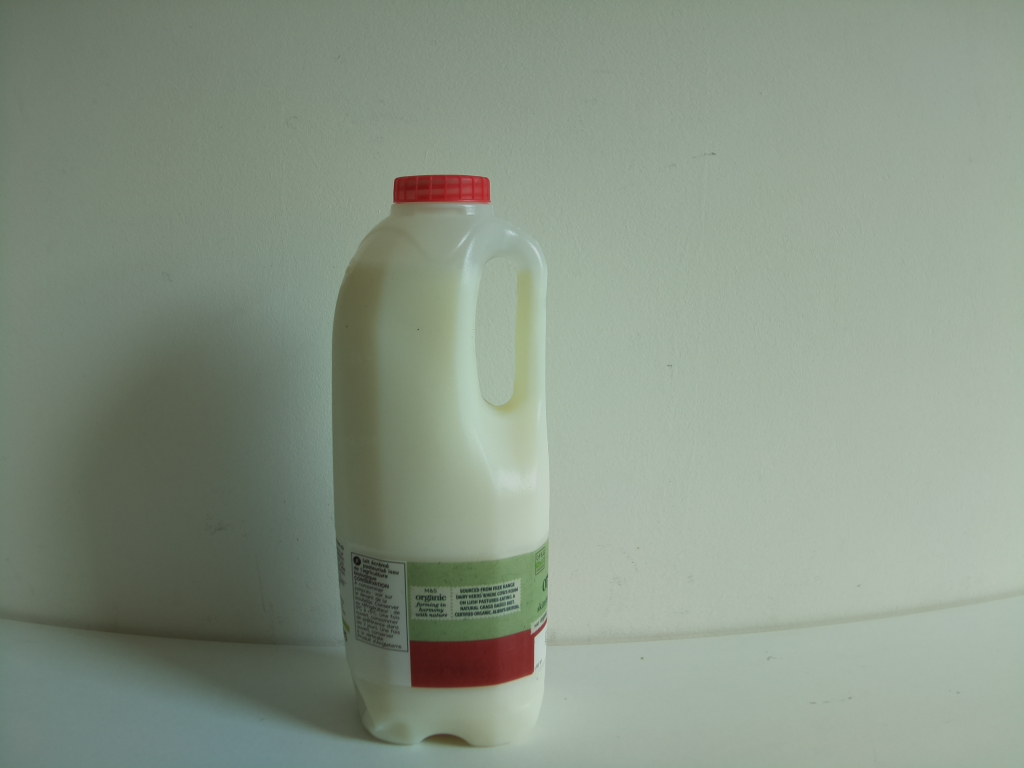milk: (324, 168, 554, 749)
